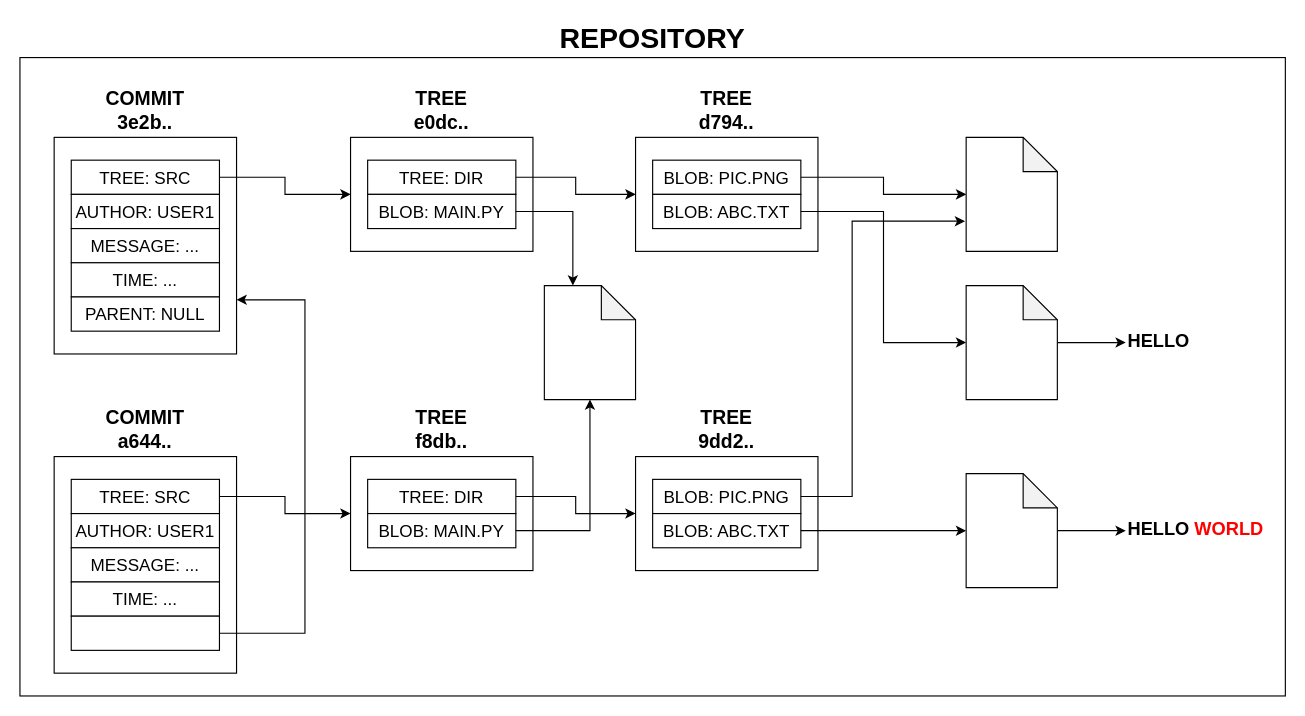
This 1305x716 diagram has some shape labels left out. Here are the shapes that lost their labels. From the top down, the centre of each, then its label:
the point at 1011,193: BLOB 63f6..
the point at 589,342: BLOB d279..
the point at 1011,342: BLOB fe79..
the point at 1011,530: BLOB 7026..
the point at 144,632: PARENT: 3e2b..
